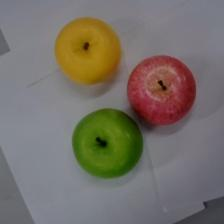green: (72, 108, 144, 178)
red: (127, 55, 196, 125)
yellow: (54, 17, 122, 85)
